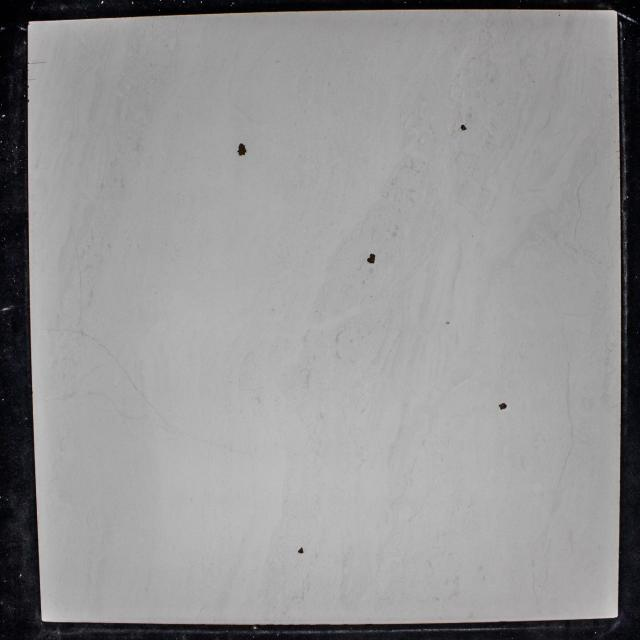edge-chipping: (27, 98, 30, 104), (26, 84, 29, 89), (27, 21, 30, 26)
hole: (236, 142, 248, 157), (366, 252, 376, 265), (498, 402, 508, 411), (296, 546, 306, 554), (460, 123, 468, 132)
line: (28, 327, 82, 334), (26, 60, 46, 64)
